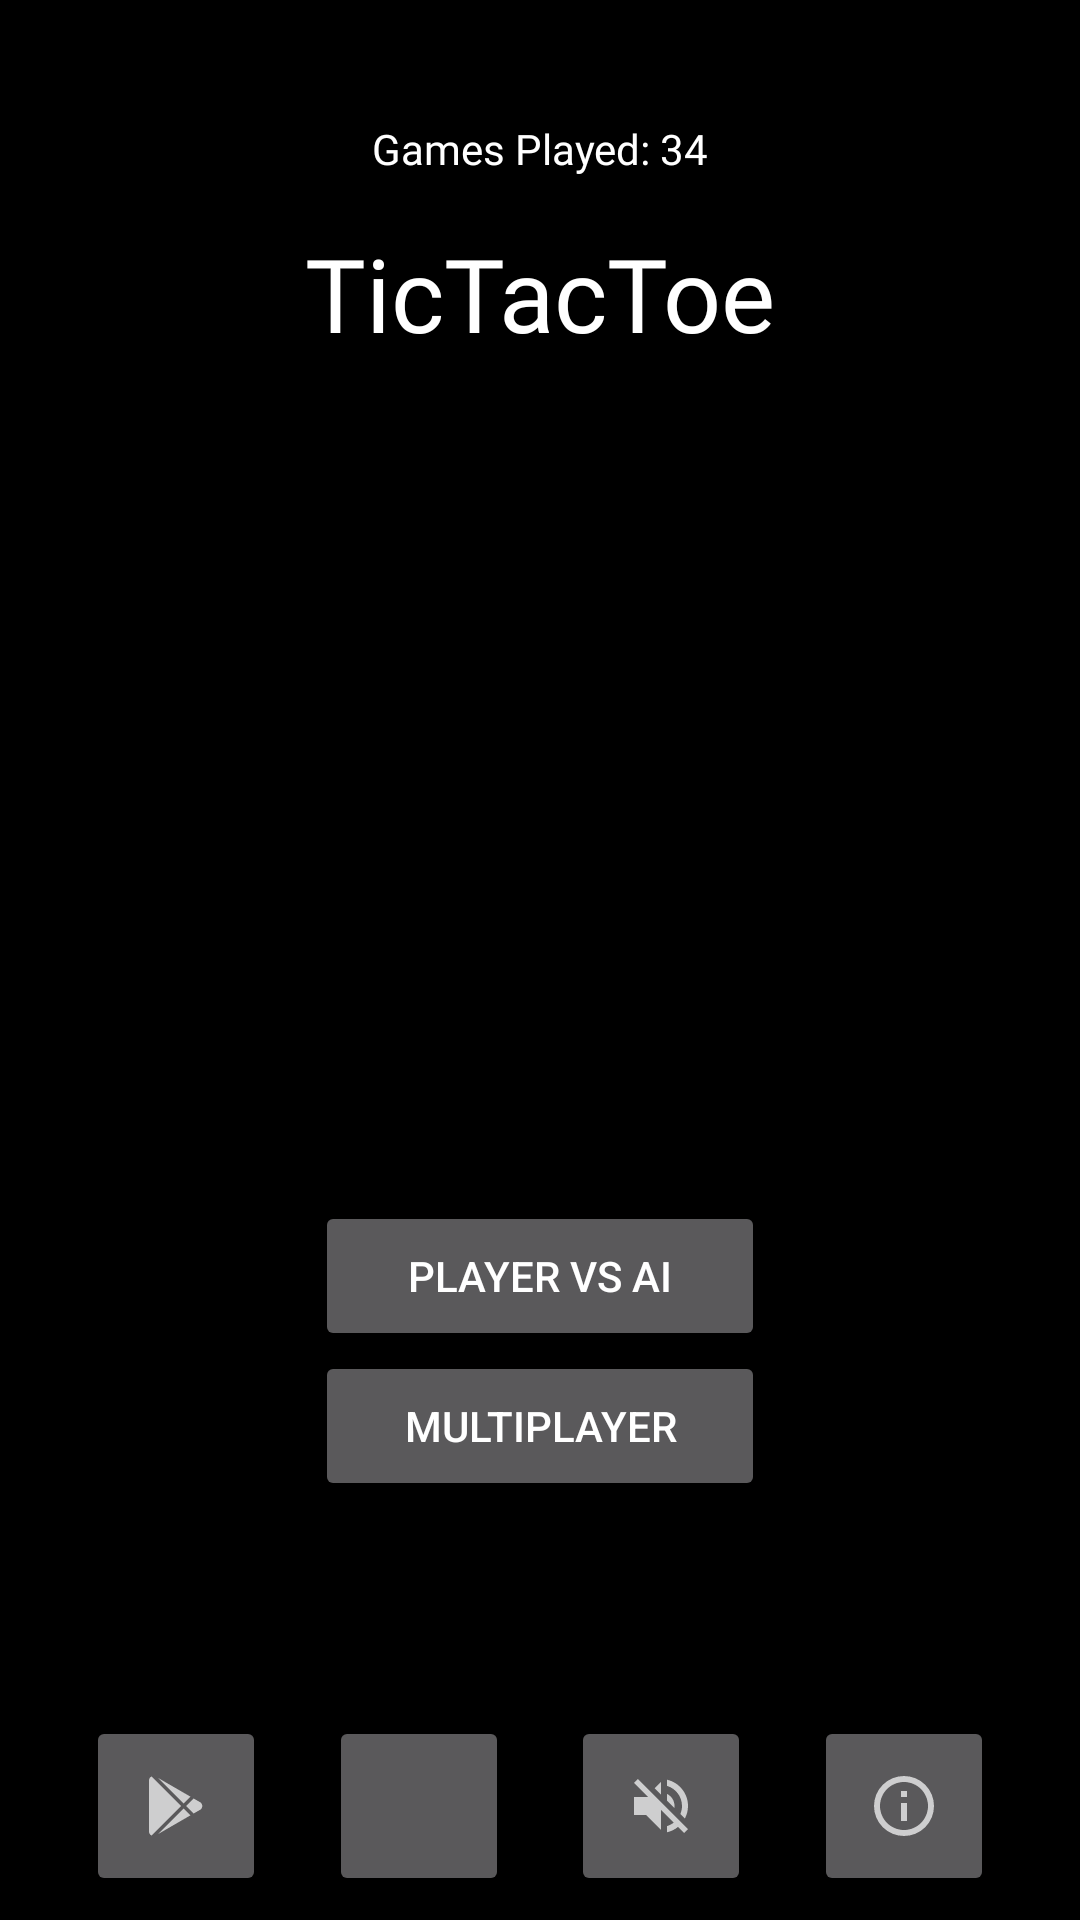

Icon bounding boxes for this 1080px x 1920px phone screenshot, format [left=x1, top=y1, right=x2, bottom=y2]:
custom sound toggle: [left=583, top=1734, right=739, bottom=1878]
info: [left=826, top=1734, right=982, bottom=1878]
